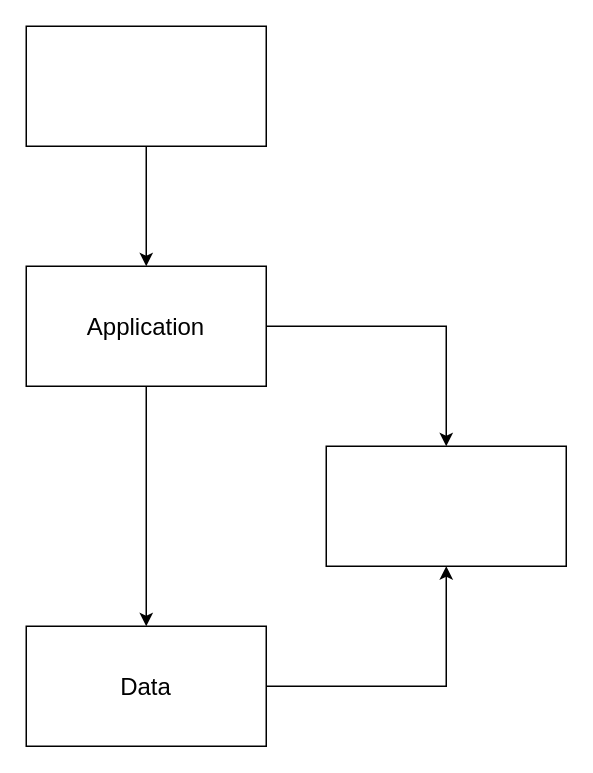
Some shapes in this 593 by 773 pixel diagram are drawn without their labels. Each missing label, with the centre of its shape:
Domain: the point at 445,505
Presentation: the point at 145,85
